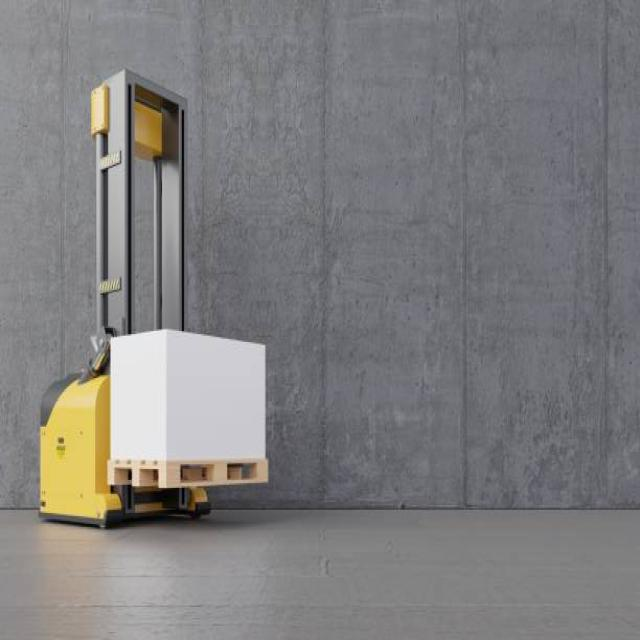Wooden-Pallets: (102, 453, 270, 492)
